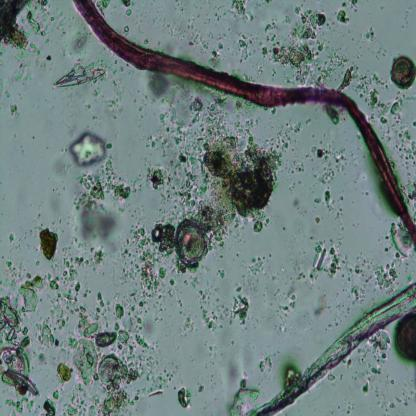Background material: (195, 117, 280, 219), (49, 246, 104, 328), (124, 223, 177, 302), (162, 105, 195, 213), (0, 298, 37, 384), (74, 159, 132, 200), (390, 113, 416, 198), (185, 290, 230, 336), (13, 43, 58, 86), (360, 69, 389, 129), (263, 42, 314, 76), (77, 204, 120, 242), (0, 0, 32, 48), (65, 130, 107, 163), (59, 21, 90, 63), (314, 41, 342, 87), (307, 242, 342, 278), (290, 5, 325, 40), (320, 139, 345, 186), (28, 4, 56, 45), (351, 366, 392, 391), (225, 356, 254, 388), (227, 388, 257, 416), (367, 328, 394, 359), (346, 252, 370, 286), (228, 294, 252, 328), (130, 324, 152, 361), (102, 387, 131, 414), (374, 264, 404, 289), (20, 275, 40, 312), (38, 228, 62, 258), (143, 159, 166, 190), (77, 305, 99, 336), (102, 92, 127, 119), (248, 256, 273, 282), (148, 74, 172, 100), (2, 394, 36, 412), (37, 323, 61, 348), (376, 396, 411, 412), (174, 381, 192, 410), (276, 116, 290, 152), (337, 67, 358, 90), (260, 21, 283, 42), (255, 354, 275, 378), (314, 296, 331, 323), (182, 25, 201, 49), (93, 329, 117, 347), (211, 38, 226, 66), (6, 257, 20, 287), (324, 105, 343, 127), (122, 363, 144, 381), (140, 129, 157, 152), (288, 156, 304, 179), (57, 364, 72, 387), (345, 289, 360, 311), (116, 328, 131, 350), (278, 295, 294, 314), (238, 39, 250, 63), (336, 195, 346, 223), (322, 190, 334, 213), (364, 23, 377, 44), (336, 8, 352, 25), (120, 2, 136, 18), (310, 142, 325, 159), (43, 398, 58, 415), (391, 95, 403, 116), (232, 0, 248, 14), (3, 230, 17, 244), (113, 302, 124, 319), (8, 103, 22, 116), (288, 200, 300, 210), (362, 186, 372, 198), (53, 388, 61, 398), (135, 317, 142, 327), (316, 214, 321, 227), (143, 40, 148, 46)
Cellulose filter fibre: (249, 283, 416, 415)
Cotton: (72, 1, 416, 247)
Diatom: (175, 220, 209, 265), (53, 66, 108, 90), (394, 313, 416, 362), (388, 223, 415, 259), (70, 339, 98, 373), (7, 369, 40, 396), (390, 56, 416, 90), (99, 356, 123, 385), (191, 96, 204, 110), (196, 386, 205, 393)
